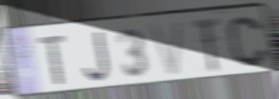3: (116, 26, 149, 80)
C: (226, 15, 271, 69)
J: (82, 28, 112, 83)
T: (190, 15, 221, 75), (37, 32, 68, 87)
V: (147, 18, 186, 80)
